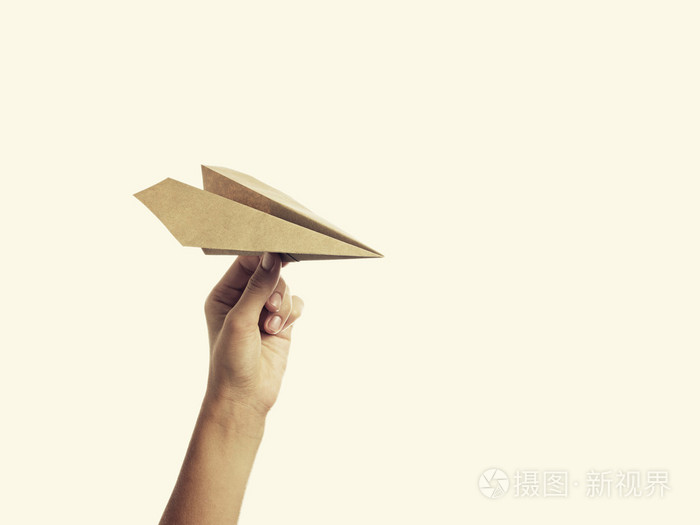no-phone: (133, 160, 387, 425)
